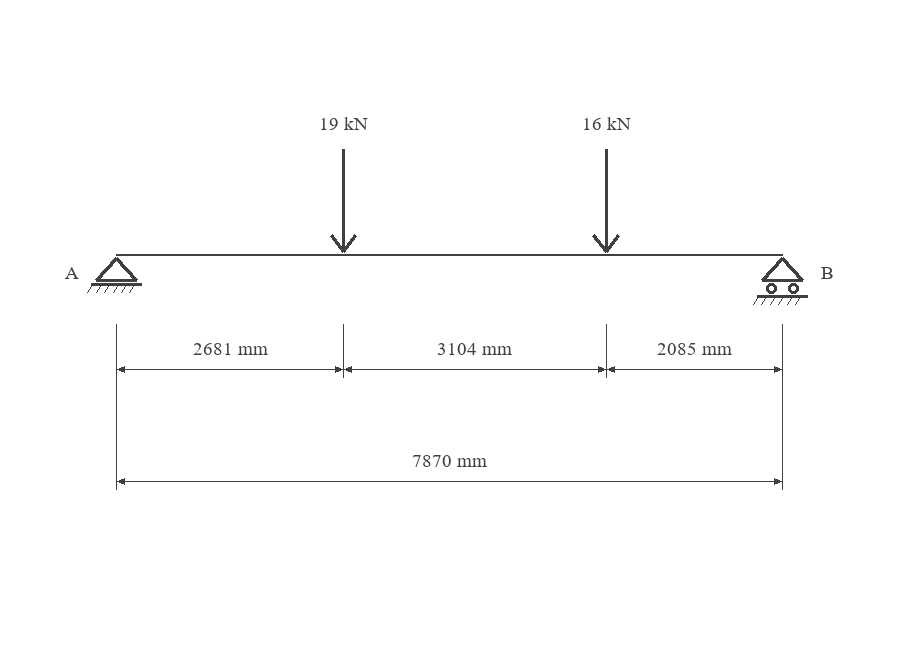pin_support: (87, 257, 142, 293)
point_load: (592, 149, 620, 253), (330, 149, 357, 253)
roller_support: (753, 257, 808, 305)
